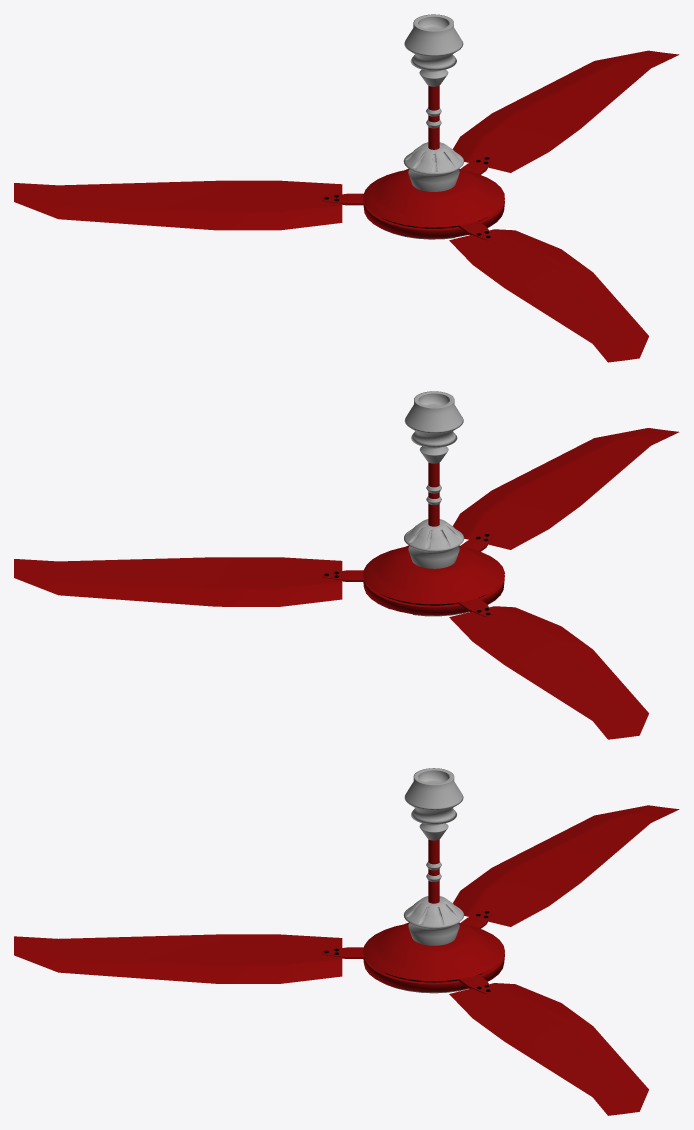
File: Roof Fan.fbx
3 renders of one model, top to bottom at view 1: azimuth 30°, elevation 25°; view 2: azimuth 150°, elevation 25°; view 3: azimuth 270°, elevation 25°, orthographic.
Visible parts, largest first — view 1: polySurface9, polySurface14, polySurface4, polySurface16, polySurface21, polySurface19, polySurface20; view 2: polySurface4, polySurface9, polySurface14, polySurface16, polySurface21, polySurface19, polySurface20; view 3: polySurface14, polySurface4, polySurface9, polySurface16, polySurface21, polySurface19, polySurface20.
Part boxes in pixels (box(x1,y1,x2,y2)): polySurface9: box(14, 180, 342, 230); polySurface14: box(449, 229, 648, 362); polySurface4: box(453, 50, 679, 172); polySurface16: box(363, 168, 504, 238); polySurface21: box(404, 14, 463, 86); polySurface19: box(403, 142, 463, 191); polySurface20: box(428, 85, 439, 149); polySurface4: box(14, 557, 342, 606); polySurface9: box(449, 606, 648, 739); polySurface14: box(453, 428, 679, 549); polySurface16: box(363, 545, 504, 615); polySurface21: box(404, 391, 463, 463); polySurface19: box(404, 519, 464, 568); polySurface20: box(428, 462, 439, 526); polySurface14: box(14, 934, 342, 983); polySurface4: box(449, 983, 648, 1115); polySurface9: box(453, 805, 679, 926); polySurface16: box(363, 922, 504, 992); polySurface21: box(404, 768, 463, 840); polySurface19: box(403, 896, 464, 945); polySurface20: box(428, 839, 439, 903).
Bounding box in the file's own units: 1.68 × 0.5113 × 1.5.
